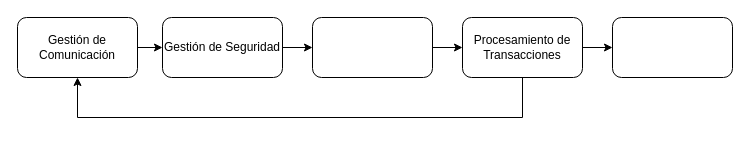
Some shapes in this 750 by 143 pixel diagram are drawn without their labels. Here are the shapes that lost their labels. From the top down, the centre of each, then its label:
[372,47]: Monitoreo y Detección de Fraude
[672,47]: Gestión de Almacenamiento
